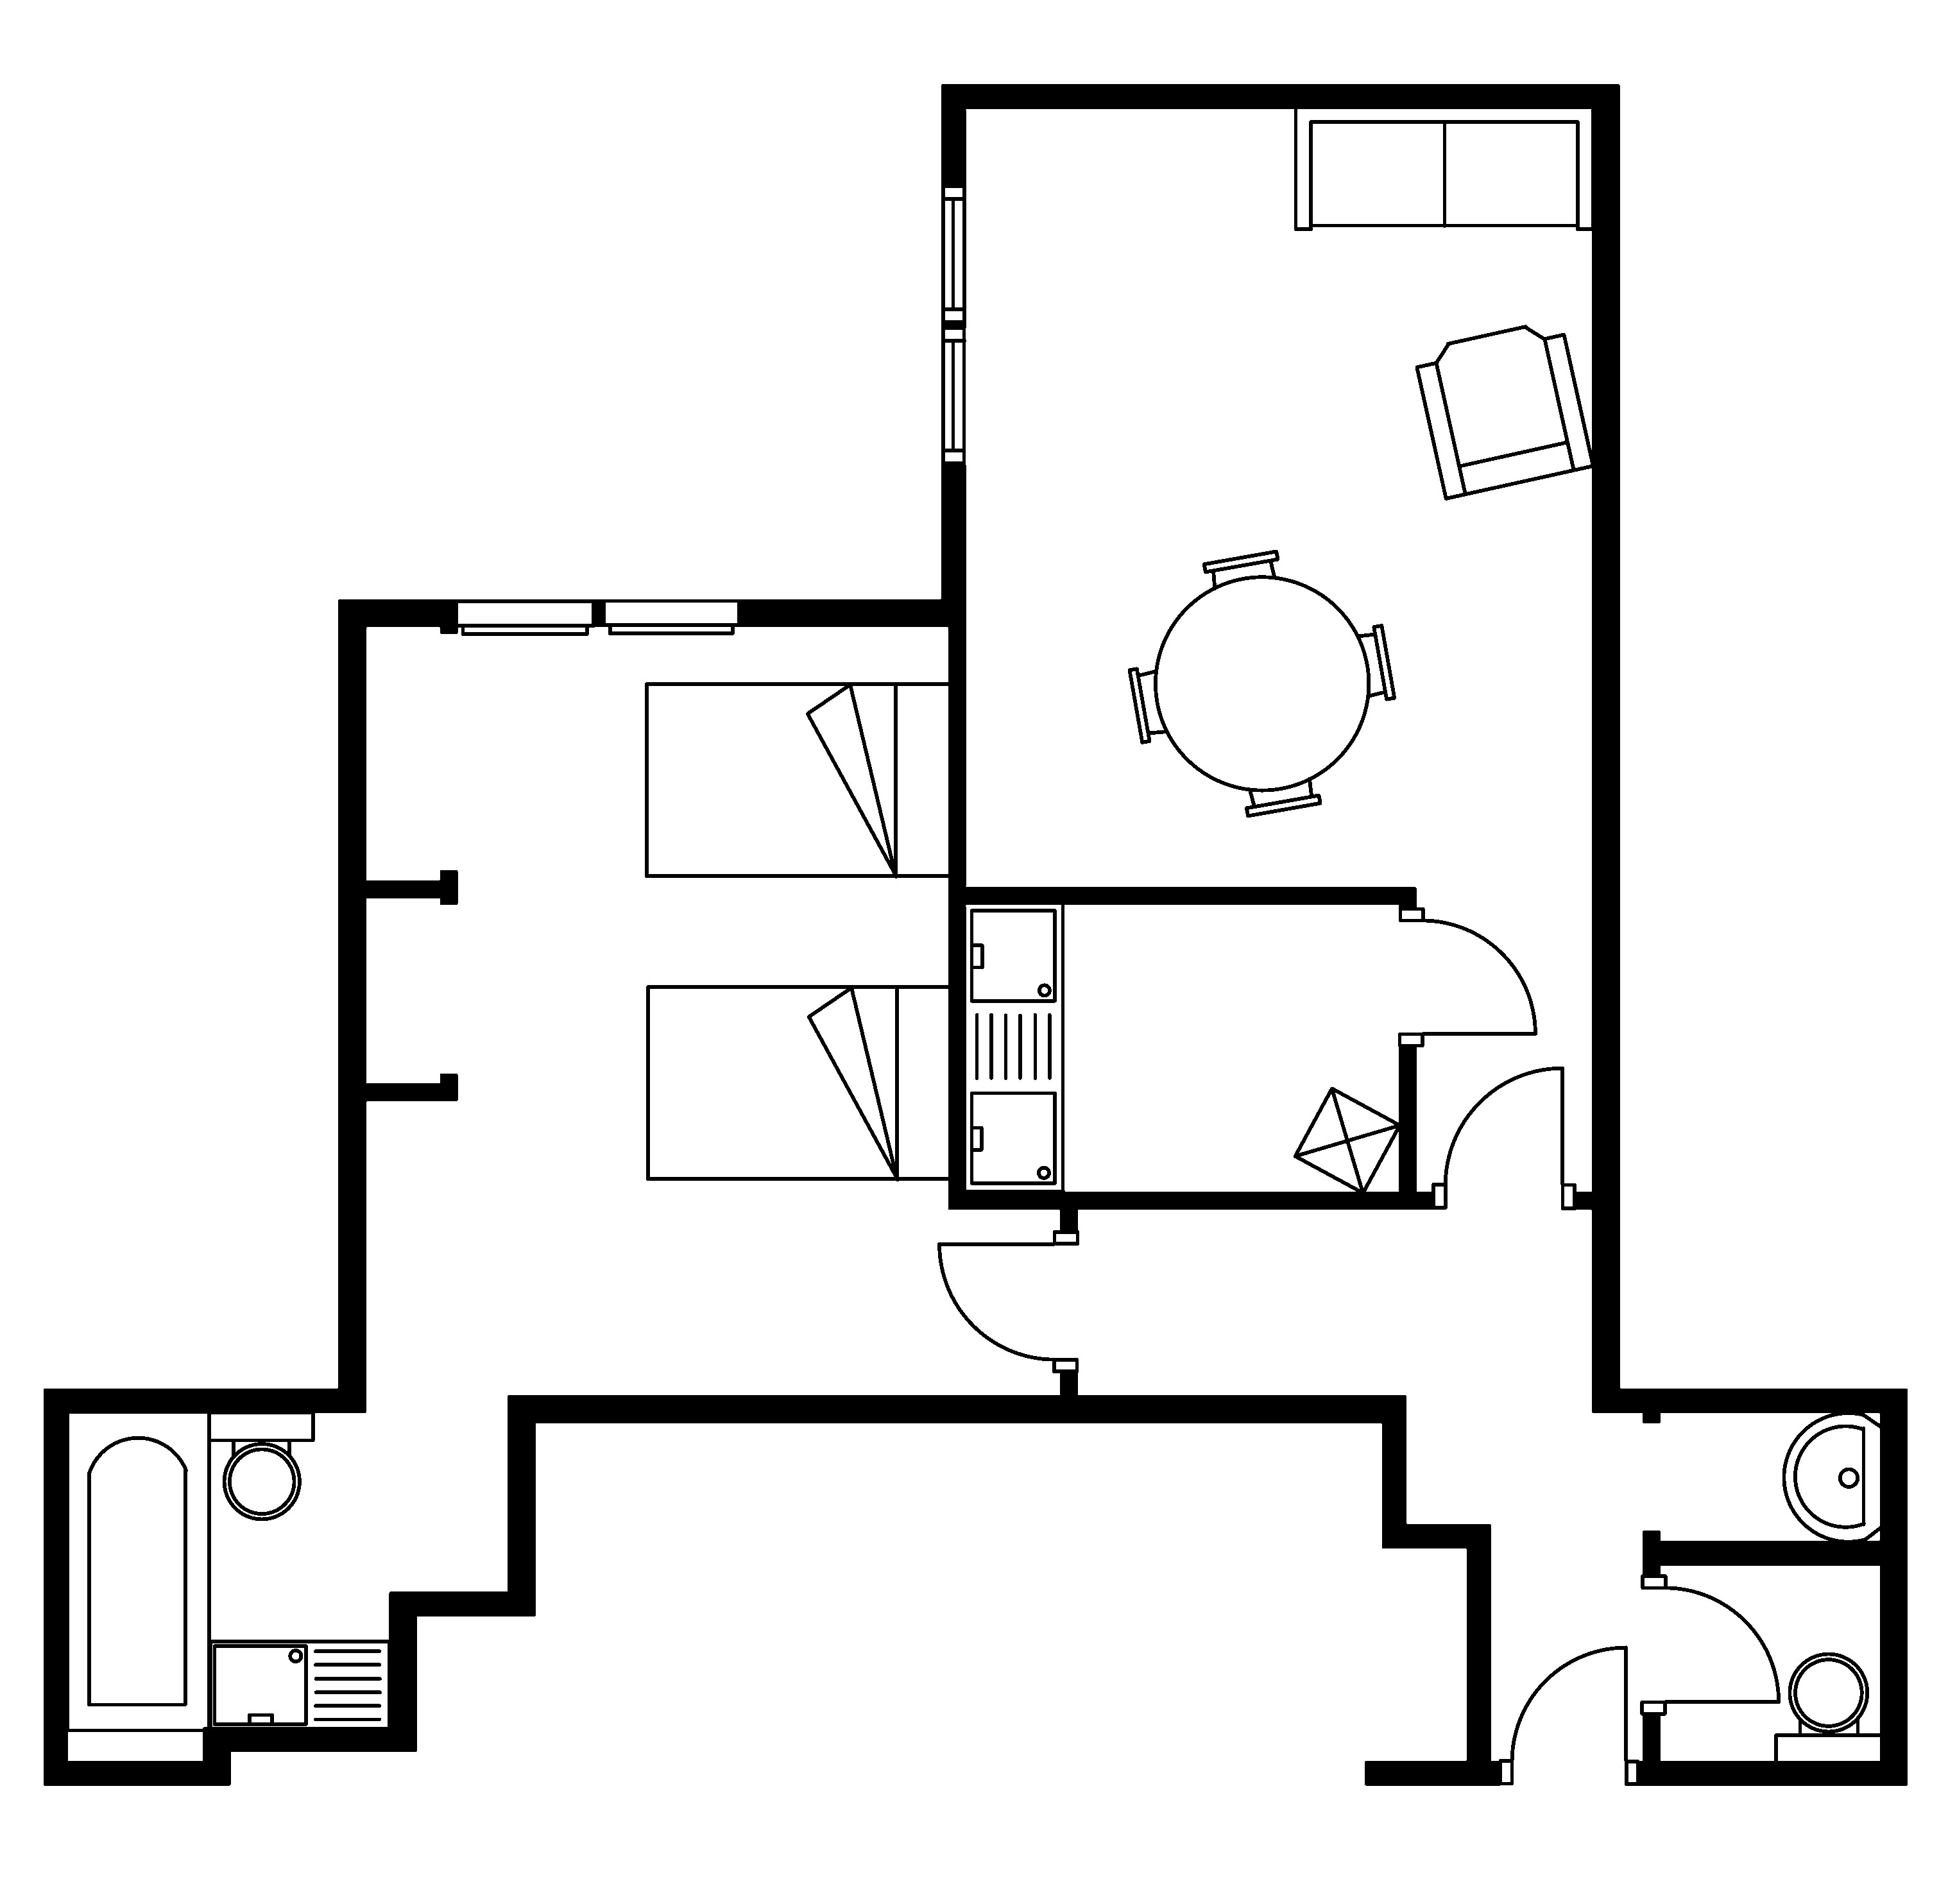armchair: (1414, 323, 1596, 500)
bed: (644, 680, 952, 879), (645, 983, 954, 1182)
coffee_table: (1292, 1086, 1402, 1194)
large_sink: (1774, 1653, 1885, 1766), (206, 1411, 316, 1520)
large_sofa: (1292, 105, 1596, 230)
round_table: (1127, 549, 1397, 818)
sink: (208, 1639, 391, 1731)
small_sink: (1782, 1411, 1883, 1543)
tub: (65, 1409, 211, 1733)
twin_sink: (961, 900, 1066, 1194)
